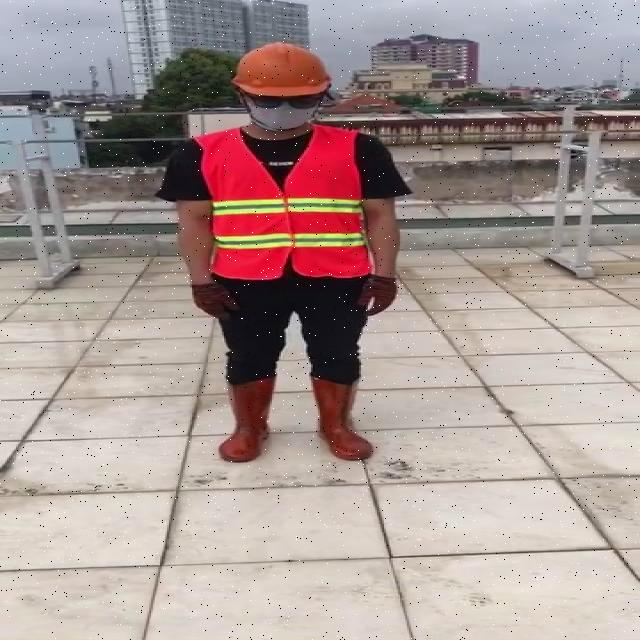Hard_hat: (227, 40, 338, 104)
Vest: (205, 126, 370, 280)
